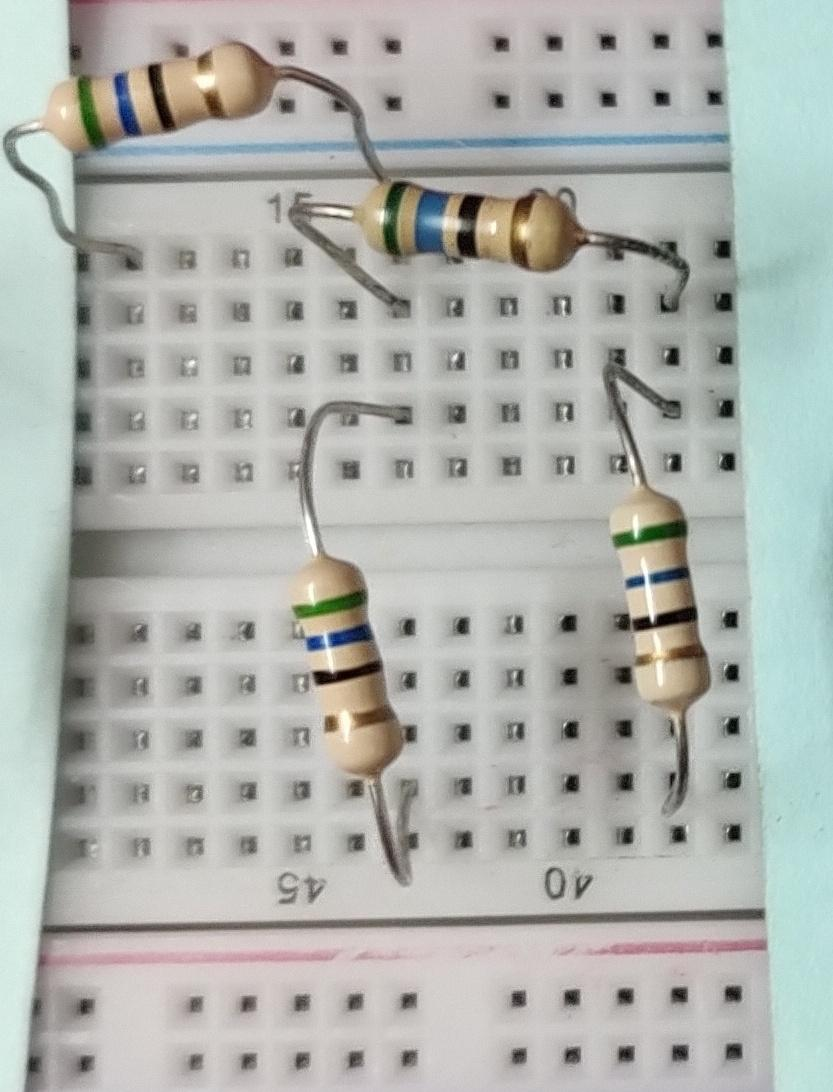resistor: (37, 25, 289, 175), (589, 485, 744, 727), (283, 537, 433, 778), (353, 163, 589, 287)
